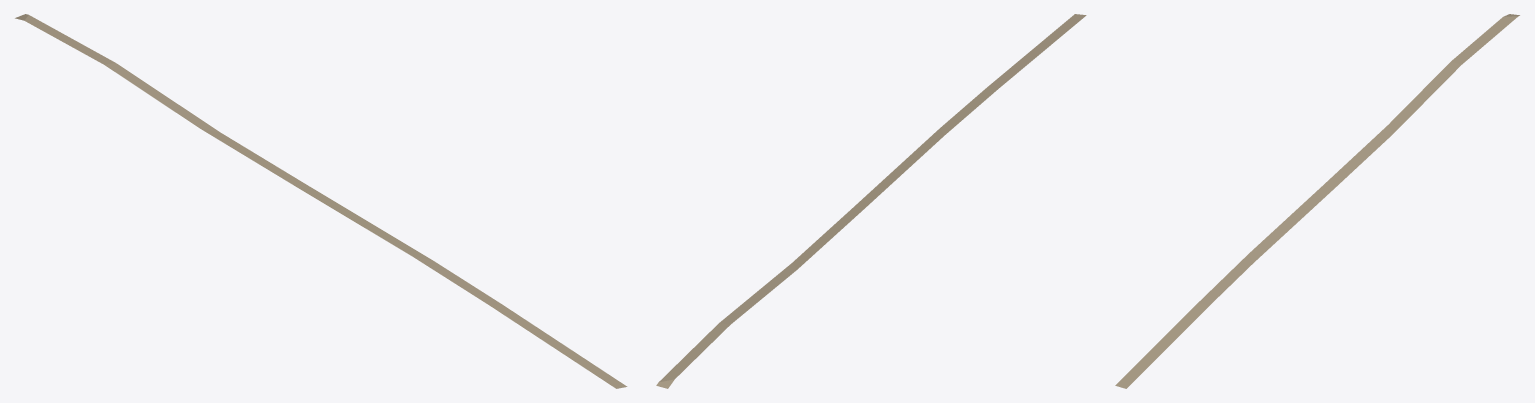
Rendered from farm_15_1_track.glb.
3 renders of one model, left to right at view 1: azimuth 30°, elevation 25°; view 2: azimuth 150°, elevation 25°; view 3: azimuth 330°, elevation 25°, orthographic. The views are drawn at different scales.
Visible parts, largest first — view 1: geometry_0; view 2: geometry_0; view 3: geometry_0.
Boxes of the visible parts, x1,y1,x2,y2 form: geometry_0: (15, 14, 627, 388); geometry_0: (656, 14, 1086, 388); geometry_0: (1115, 14, 1519, 388).
Bounding box in the file's own units: 26.31 × 5.09 × 250.
